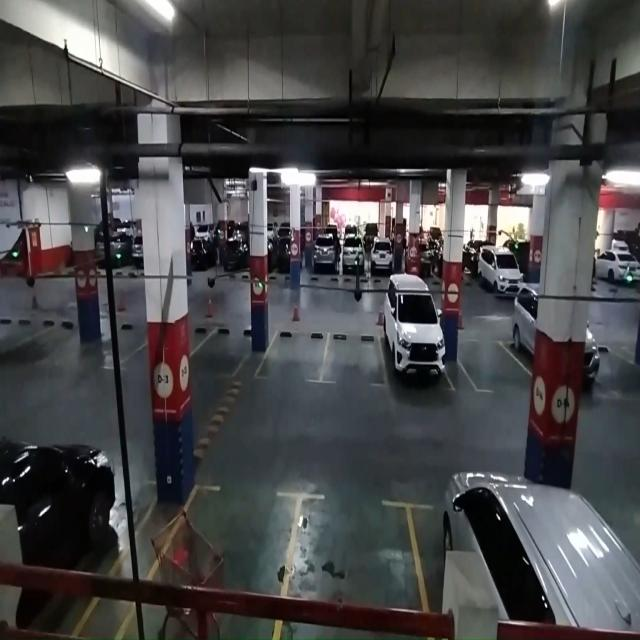empty: (286, 492, 426, 614), (458, 338, 522, 392), (265, 327, 325, 384), (326, 326, 382, 386), (205, 324, 251, 378)
occupied: (382, 297, 447, 388)
